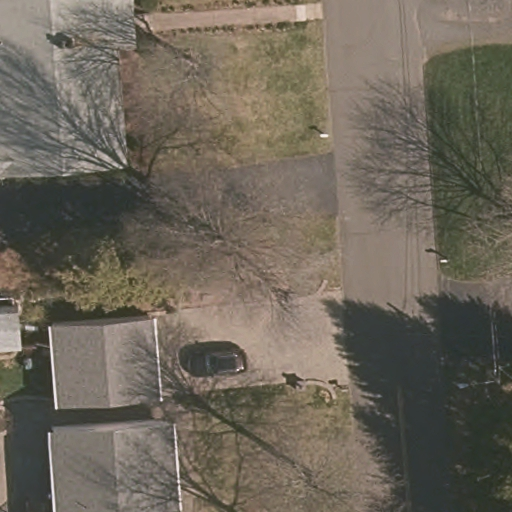DT: (439, 354, 512, 394)
